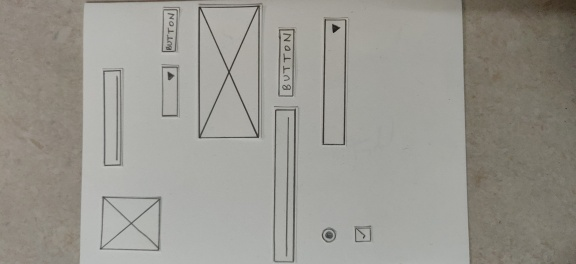button: (273, 26, 299, 99), (157, 5, 182, 55)
checkbox: (350, 223, 376, 245)
dropdown: (318, 15, 350, 149), (158, 62, 182, 121)
img: (194, 1, 263, 142), (96, 193, 165, 254)
radio: (318, 225, 338, 245)
text: (269, 104, 302, 264), (99, 65, 125, 169)
